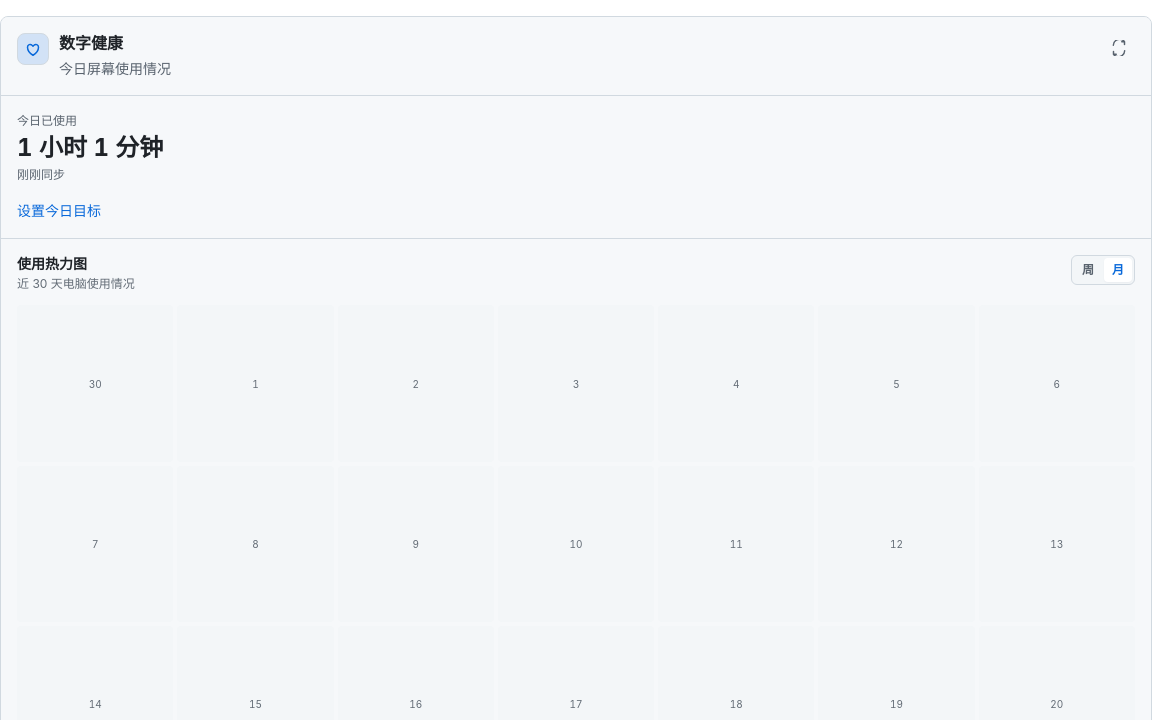
Test: DigitalHealthCard › 切换到周视图请求近 7 天数据
This screenshot has width=1152, height=720.
Click the button "周" at (1088, 270), box left=1074, top=258, right=1102, bottom=282
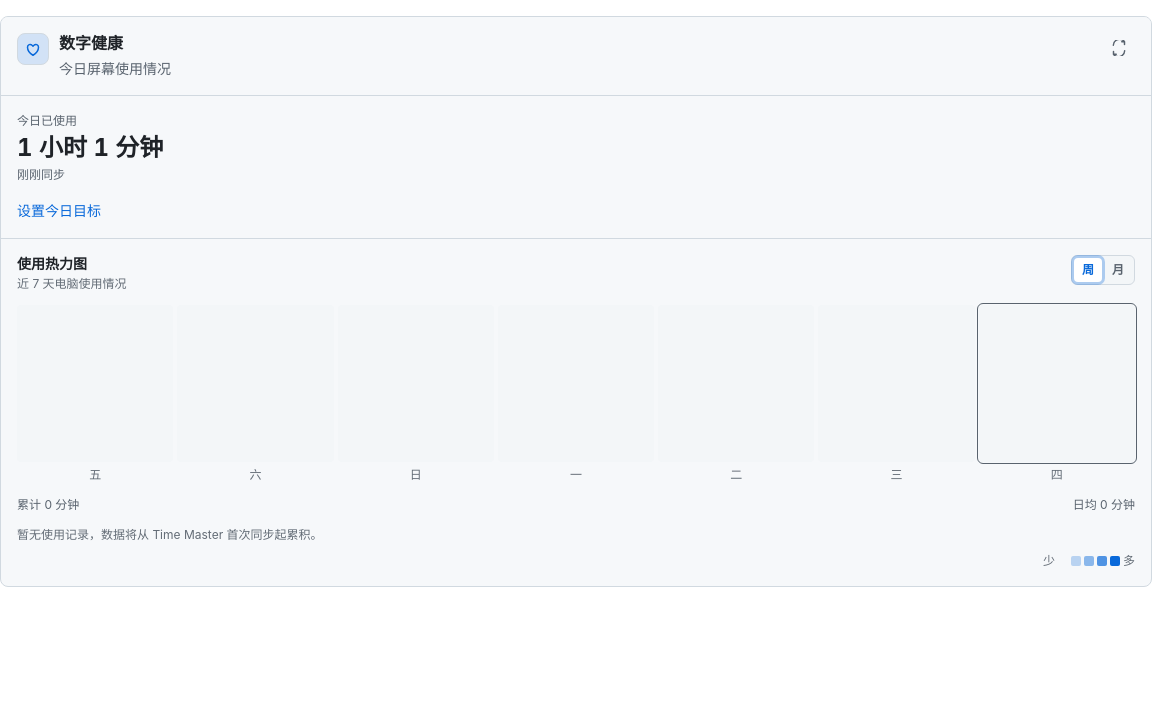
Now the number of elements with class "digital-health-heatmap__cell" is 7
Now the text "近 7 天电脑使用情况" is shown, box left=17, top=276, right=127, bottom=294
